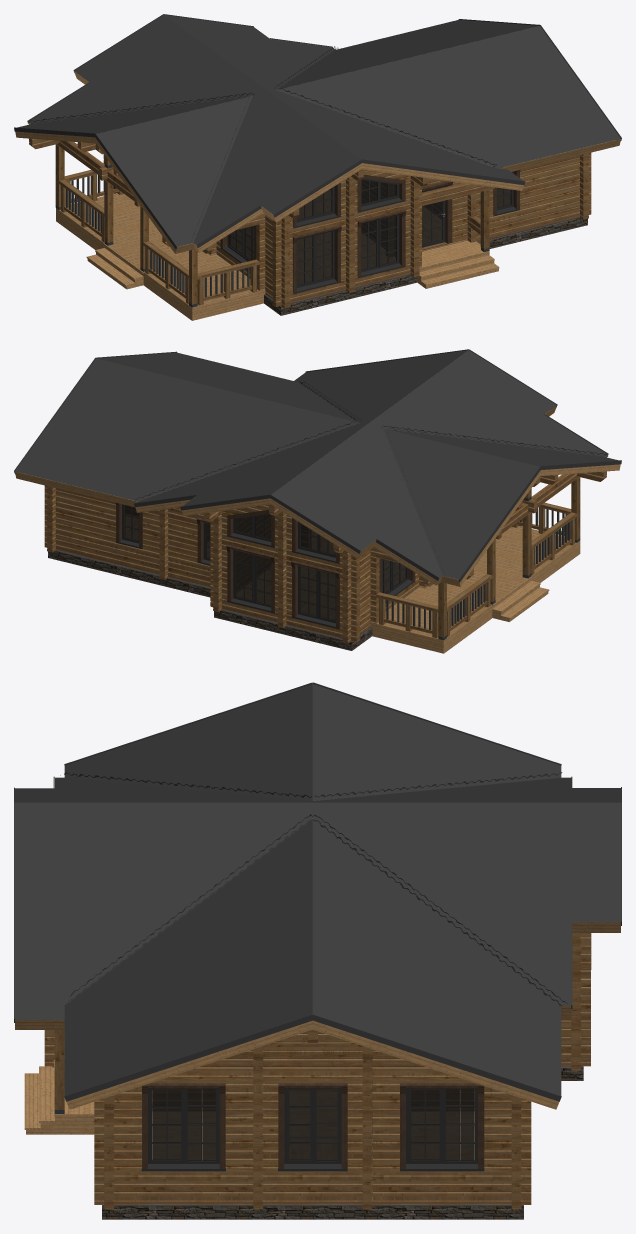
File: house-v3-base.glb
The picture shows the model from 3 angles, top to bottom: view 1: azimuth 30°, elevation 25°; view 2: azimuth 150°, elevation 25°; view 3: azimuth 270°, elevation 25°; orthographic projection. The views are drawn at different scales.
Parts seen in each view (by area): view 1: Material15, Material12, Material14, Material19, Material23, Material54, Material60, Material22, Material13, Material6, Material7, Material11 (+1 smaller); view 2: Material15, Material12, Material14, Material19, Material23, Material54, Material60, Material13, Material22, Material7, Material6, Material11 (+1 smaller); view 3: Material15, Material12, Material23, Material14, Material60, Material6, Material7, Material13, Material22, Material11, Material19.
Part boxes in pixels (x1=…): Material15: x1=17, y1=15, x2=620, y2=297; Material12: x1=29, y1=138, x2=591, y2=308; Material14: x1=15, y1=39, x2=620, y2=320; Material19: x1=55, y1=144, x2=489, y2=305; Material23: x1=229, y1=180, x2=511, y2=285; Material54: x1=59, y1=193, x2=259, y2=305; Material60: x1=14, y1=14, x2=621, y2=249; Material22: x1=220, y1=170, x2=520, y2=292; Material13: x1=227, y1=171, x2=513, y2=287; Material6: x1=231, y1=188, x2=509, y2=284; Material7: x1=113, y1=186, x2=587, y2=315; Material11: x1=220, y1=197, x2=519, y2=293; Material15: x1=15, y1=350, x2=617, y2=630; Material12: x1=44, y1=471, x2=606, y2=643; Material14: x1=15, y1=406, x2=620, y2=653; Material19: x1=376, y1=477, x2=580, y2=638; Material23: x1=125, y1=505, x2=406, y2=620; Material54: x1=377, y1=526, x2=576, y2=638; Material60: x1=14, y1=349, x2=621, y2=582; Material13: x1=122, y1=504, x2=408, y2=623; Material22: x1=115, y1=503, x2=415, y2=627; Material7: x1=48, y1=519, x2=522, y2=650; Material6: x1=126, y1=516, x2=404, y2=619; Material11: x1=116, y1=533, x2=415, y2=629; Material15: x1=15, y1=684, x2=620, y2=1095; Material12: x1=44, y1=933, x2=591, y2=1209; Material23: x1=153, y1=1089, x2=474, y2=1160; Material14: x1=15, y1=798, x2=620, y2=1134; Material60: x1=14, y1=682, x2=621, y2=1101; Material6: x1=152, y1=1090, x2=474, y2=1159; Material7: x1=102, y1=1067, x2=583, y2=1219; Material13: x1=148, y1=1089, x2=477, y2=1163; Material22: x1=142, y1=1064, x2=484, y2=1168; Material11: x1=141, y1=1163, x2=484, y2=1171; Material19: x1=54, y1=1030, x2=64, y2=1109.
Bounding box in the file's own units: 15.84 × 5.06 × 12.24.
20 materials, 10 textured.
